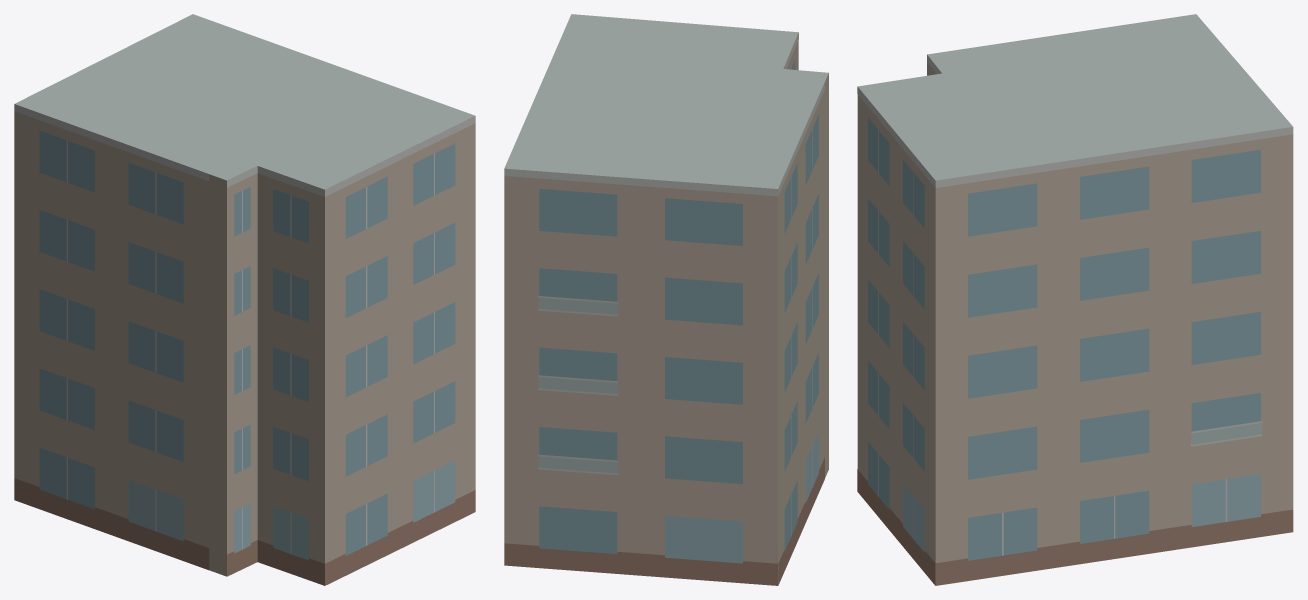
File: survey-upis-32776610.glb
3 renders of one model, left to right at view 1: azimuth 30°, elevation 25°; view 2: azimuth 150°, elevation 25°; view 3: azimuth 270°, elevation 25°, orthographic. The views are drawn at different scales.
Visible parts, largest first — view 1: survey-upis-32776610.tmp; view 2: survey-upis-32776610.tmp; view 3: survey-upis-32776610.tmp.
Boxes of the visible parts, box(x1,y1,x2,y2) form: survey-upis-32776610.tmp: box(14, 14, 475, 585); survey-upis-32776610.tmp: box(504, 14, 828, 585); survey-upis-32776610.tmp: box(857, 14, 1293, 585).
Bounding box in the file's own units: 11.74 × 13.3 × 12.97.
